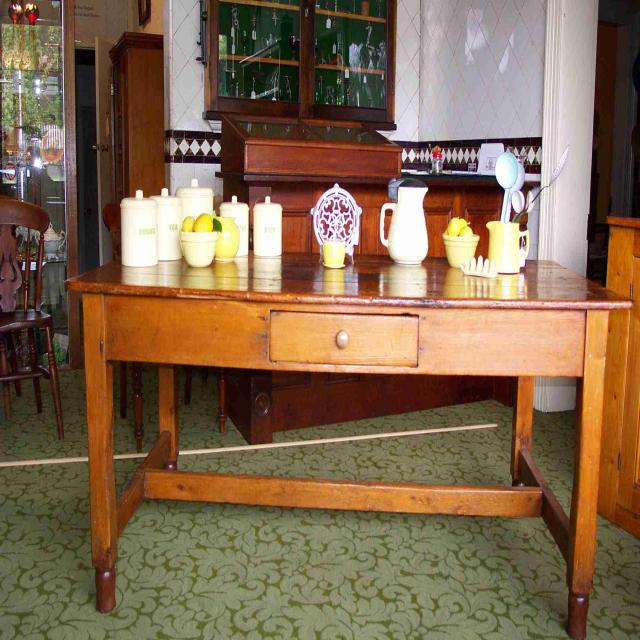table: (65, 249, 632, 640)
